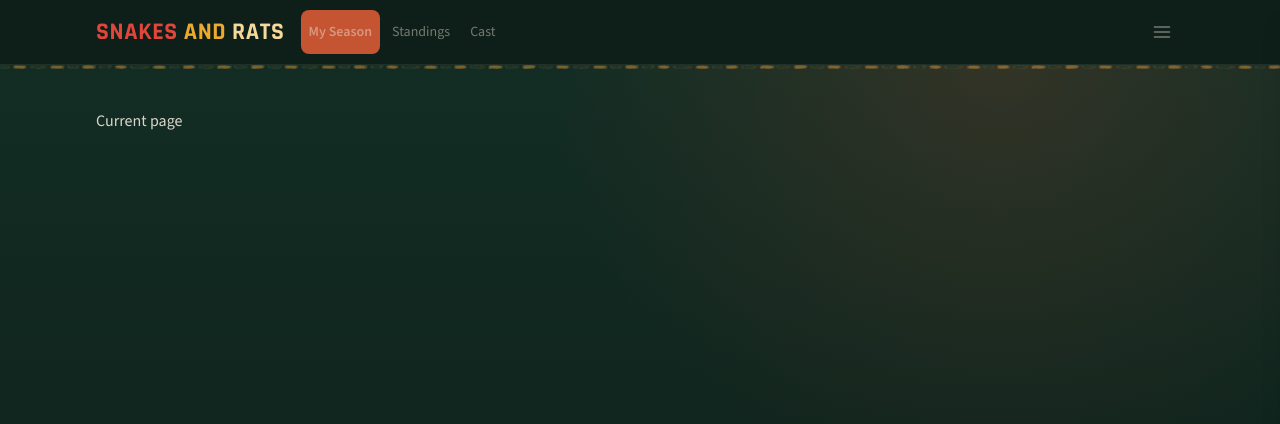
Test: Layout › keeps the global night theme active while navigating a locked episode
The width and height of the screenshot is (1280, 424).
Click the link "Standings".
click(421, 32)  # box [392,22,450,41]
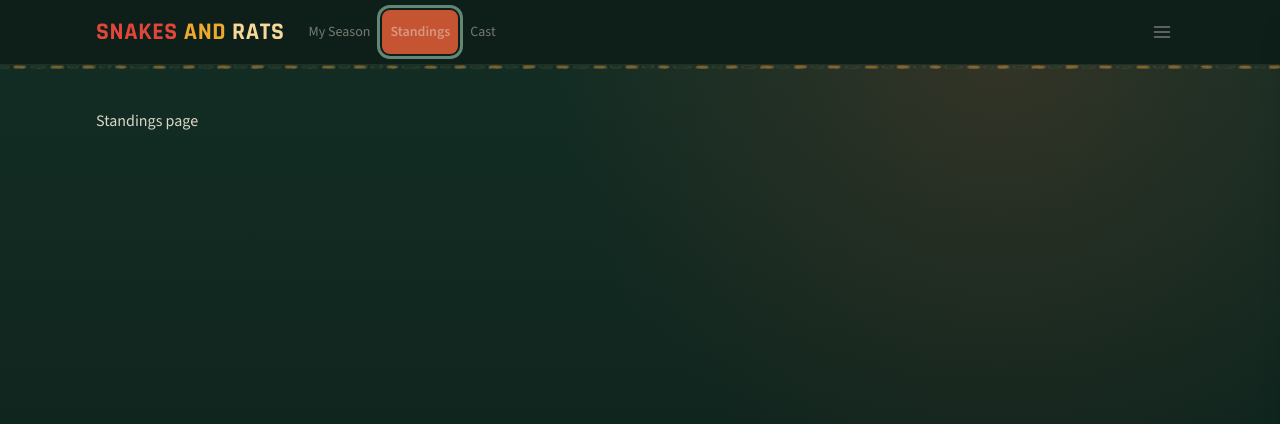
Expected: the heading "Standings page" is shown, [96,110,198,131]
